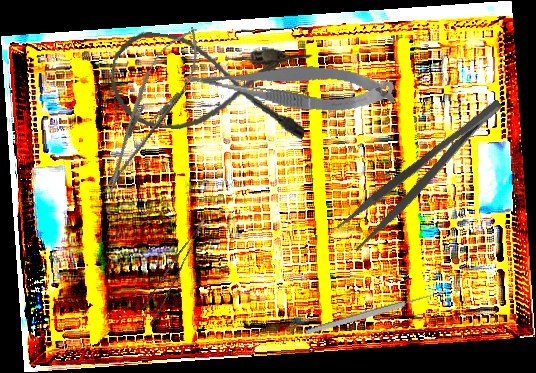Cannula: (106, 28, 314, 145)
Dressing Forceps: (333, 94, 518, 254)
Micro Scissor: (178, 43, 400, 125)
Needle Holder: (86, 17, 214, 203)
Surgical Spoon: (304, 288, 448, 336)
Tissue Forceps: (133, 215, 224, 325)
